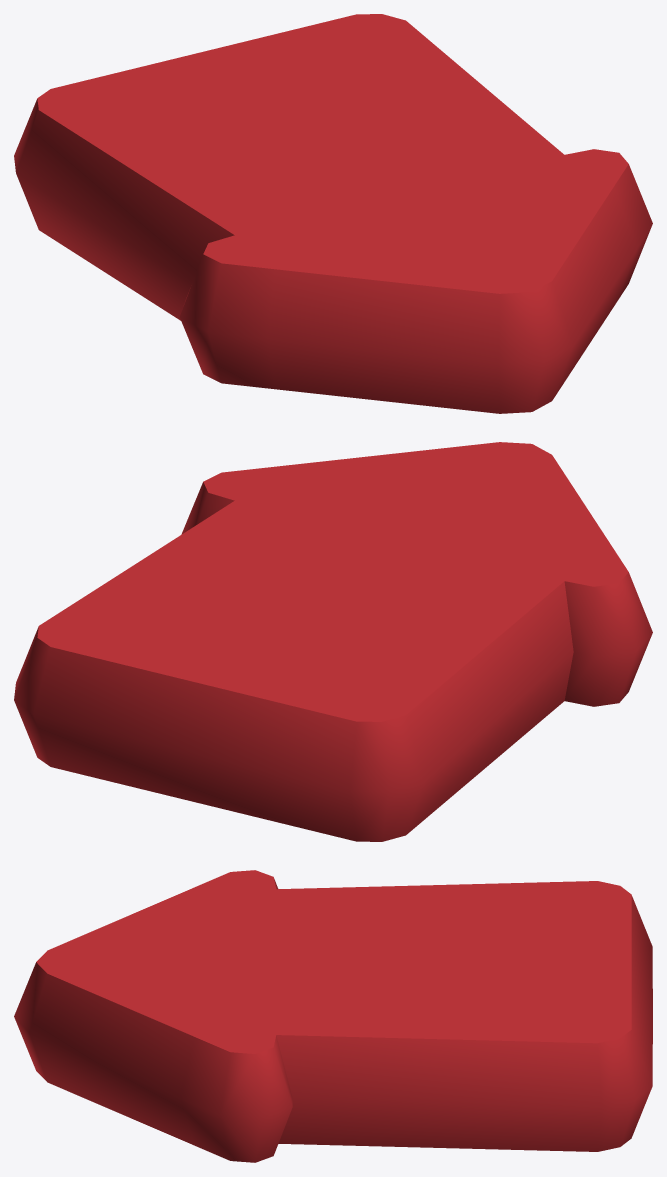
Rendered from Arrow_1.FBX.
3 renders of one model, top to bottom at view 1: azimuth 30°, elevation 25°; view 2: azimuth 150°, elevation 25°; view 3: azimuth 270°, elevation 25°, orthographic. The views are drawn at different scales.
Visible parts, largest first — view 1: Arrow_1; view 2: Arrow_1; view 3: Arrow_1.
Boxes of the visible parts, <box> form: Arrow_1: <box>14,14,652,413</box>; Arrow_1: <box>14,442,652,841</box>; Arrow_1: <box>14,870,652,1162</box>.
Size of the model in its own units: 0.5788 by 0.1452 by 0.7731.
